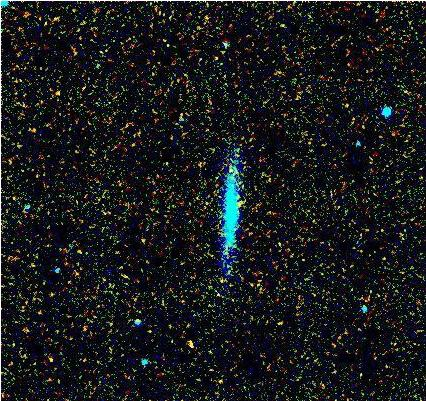star: (177, 319, 207, 349)
